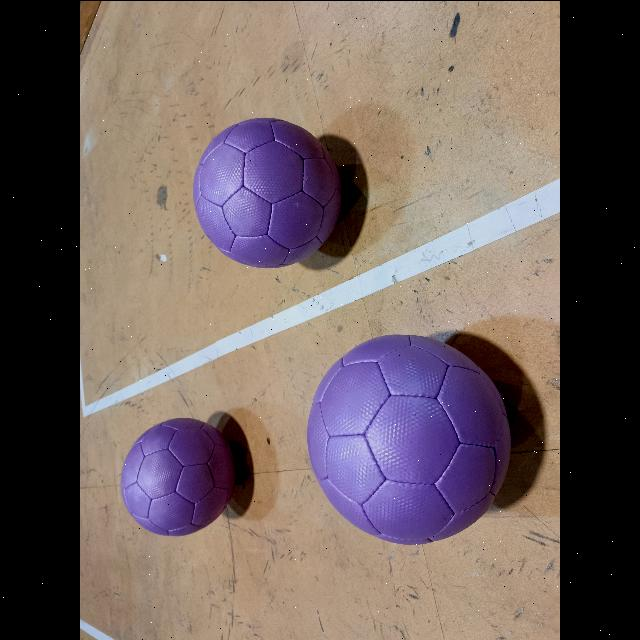P: (306, 333, 509, 543), (192, 116, 342, 266), (121, 417, 237, 535)
